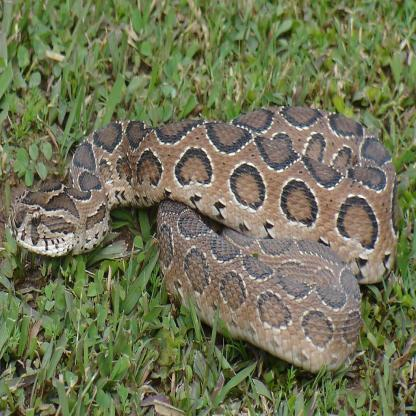Snake: (4, 101, 396, 359)
